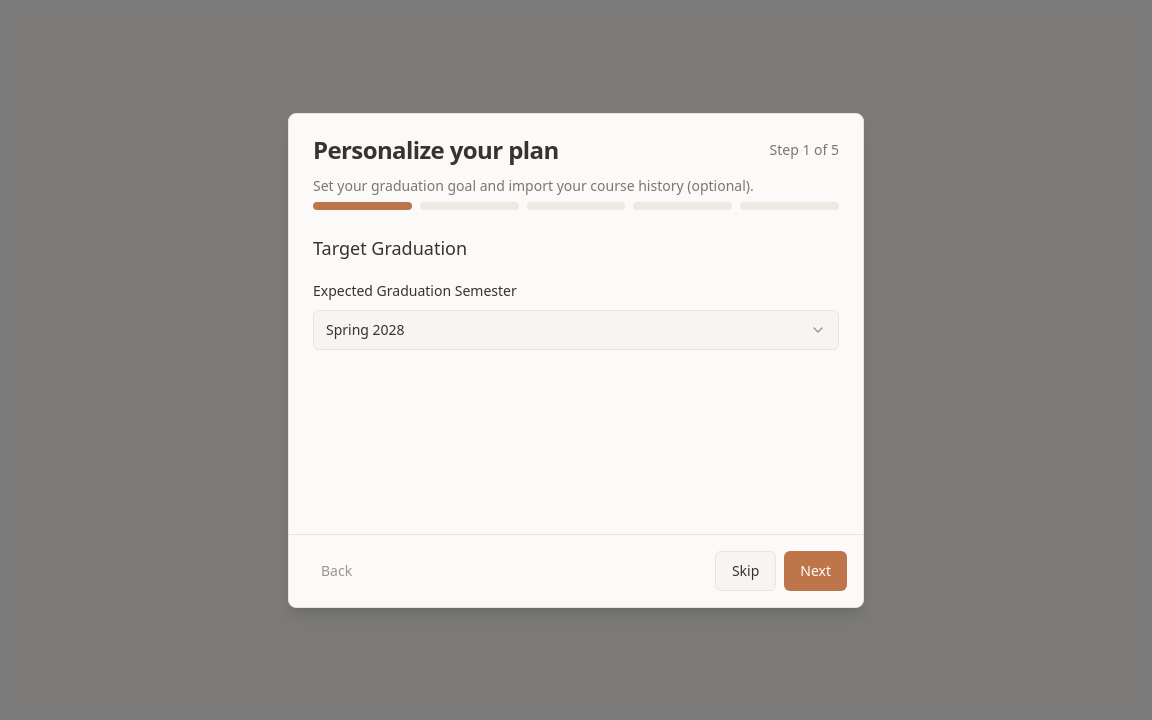
Test: OnboardingWizard (TASK-105 5-step flow) › Next advances from grad_target to load_tolerance
Click the button "Next".
click(816, 570)  # box [784,550,847,590]
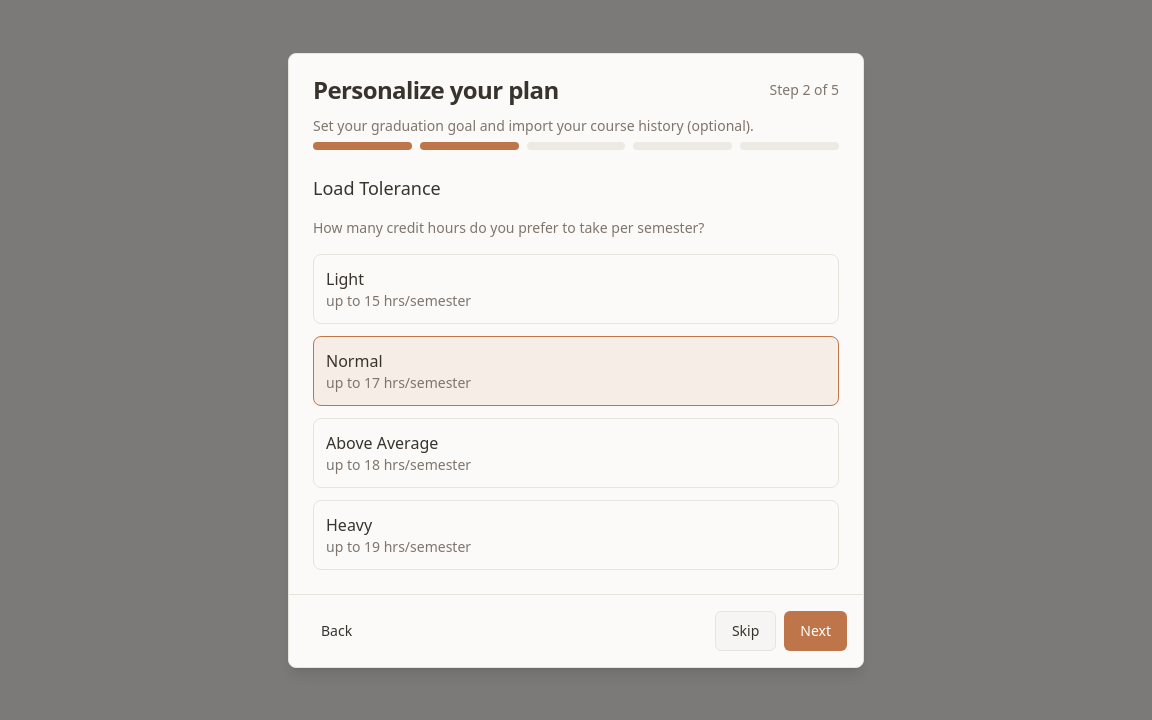
Expected: the heading "Load Tolerance" is shown, [313,176,441,200]
